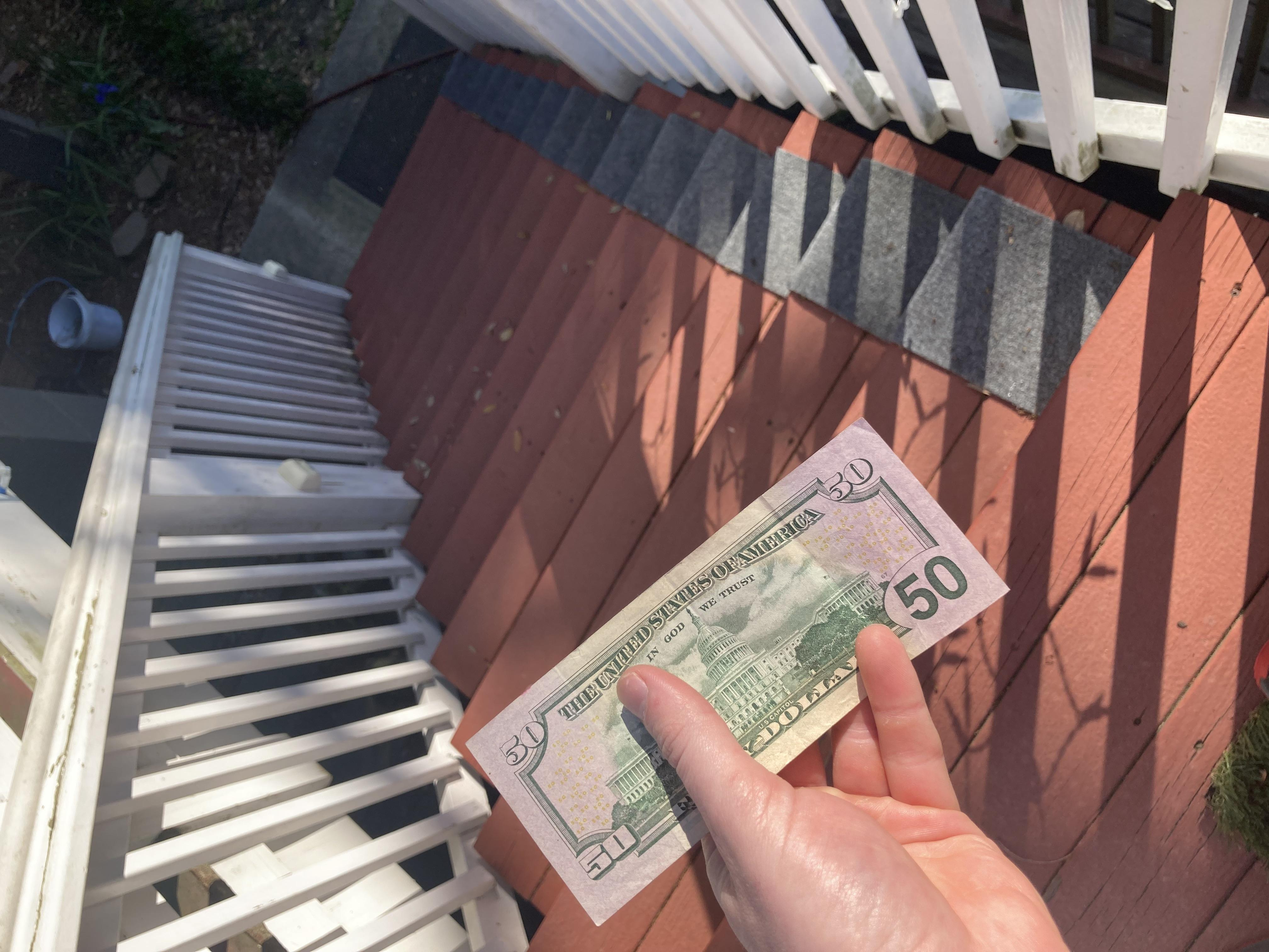fifty-back: (32, 351, 719, 756)
